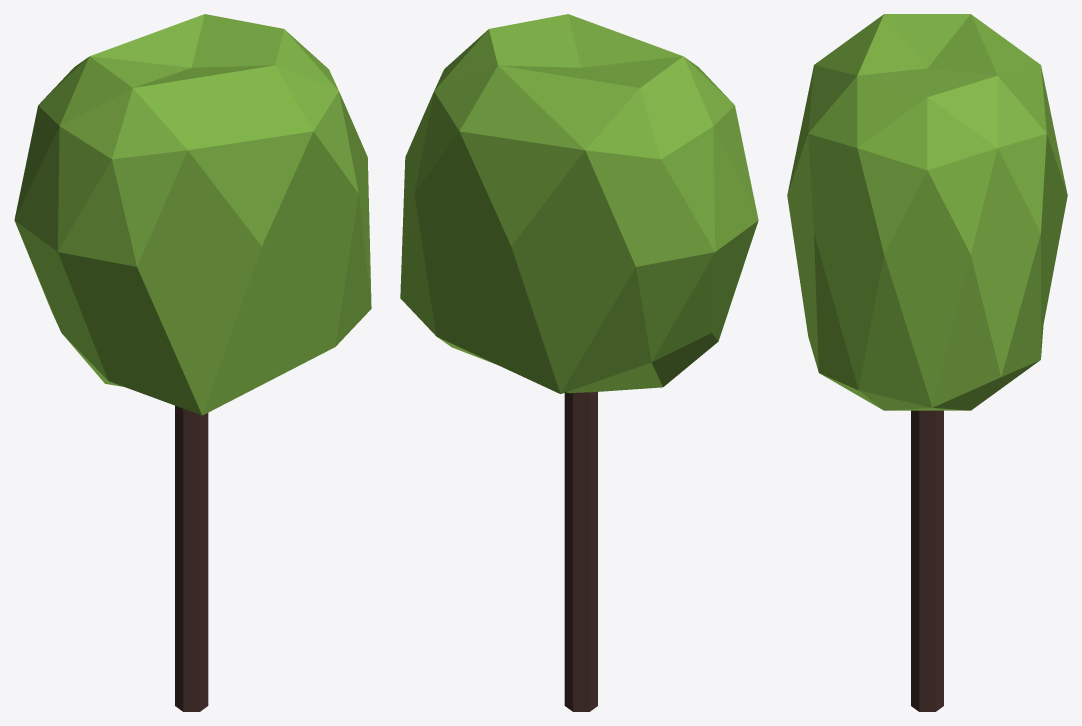
Rendered from Tree_13.fbx.
3 views of the same model, side by side, from view 1: azimuth 30°, elevation 25°; view 2: azimuth 150°, elevation 25°; view 3: azimuth 270°, elevation 25° (orthographic).
Parts seen in each view (by area): view 1: Tree_13; view 2: Tree_13; view 3: Tree_13.
Part boxes in pixels (x1,y1,x2,y2): Tree_13: (14,14,371,711); Tree_13: (400,14,758,711); Tree_13: (787,14,1067,711).
Bounding box in the file's own units: 850 × 1679 × 653.
